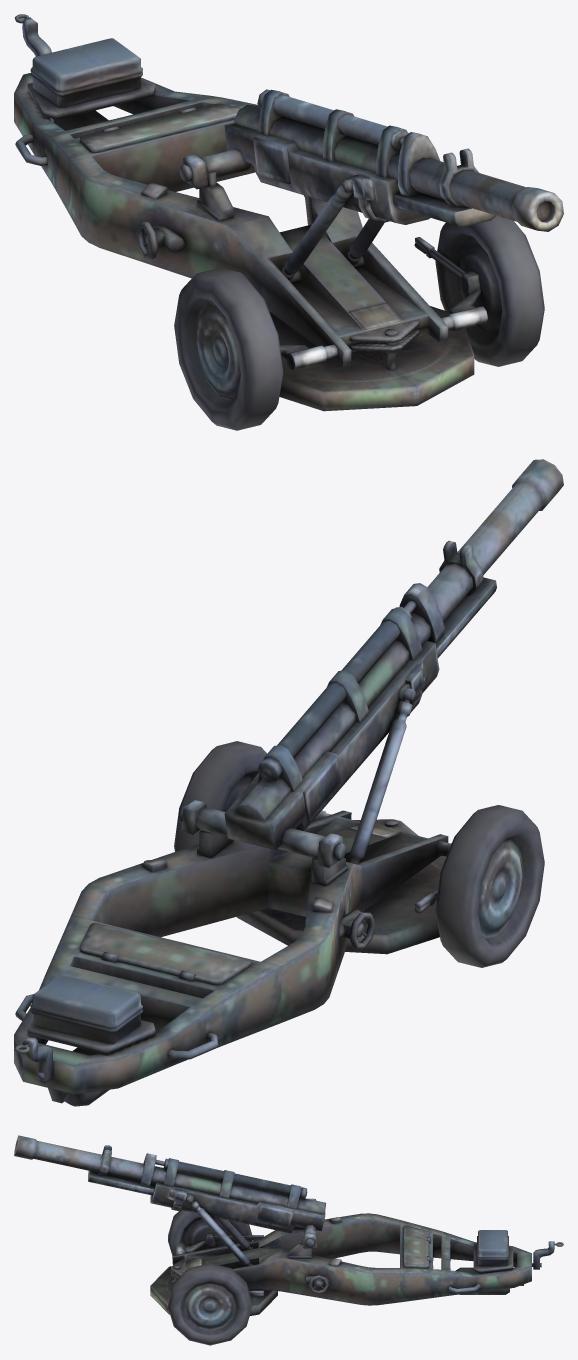
File: Howitzer.glb
The picture shows the model from 3 angles, top to bottom: view 1: azimuth 30°, elevation 25°; view 2: azimuth 150°, elevation 25°; view 3: azimuth 270°, elevation 25°; orthographic projection. The views are drawn at different scales.
Visible parts, largest first — view 1: low; view 2: low; view 3: low.
Boxes of the visible parts, x1,y1,x2,y2 form: low: (14,14,563,430); low: (14,459,563,1106); low: (14,1135,563,1345).
Size of the model in its own units: 1.01 by 1.08 by 3.12.
1 material, 1 textured.
